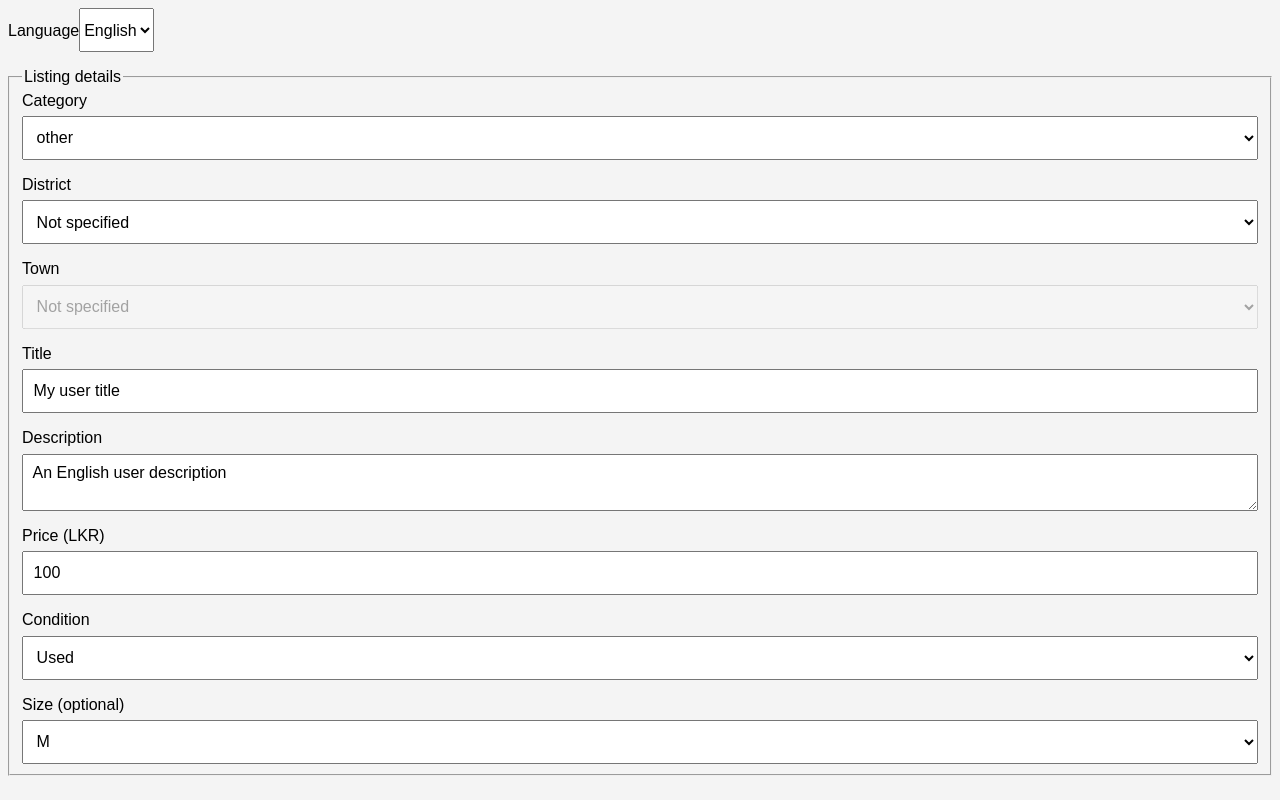
Scenario: switching languages updates labels but preserves state and canonical API enum values
Later steps or results of the test are not shown.
Select "සිංහල" in the dropdown labelled "Language" at [117, 30], box [79,8,154,52]
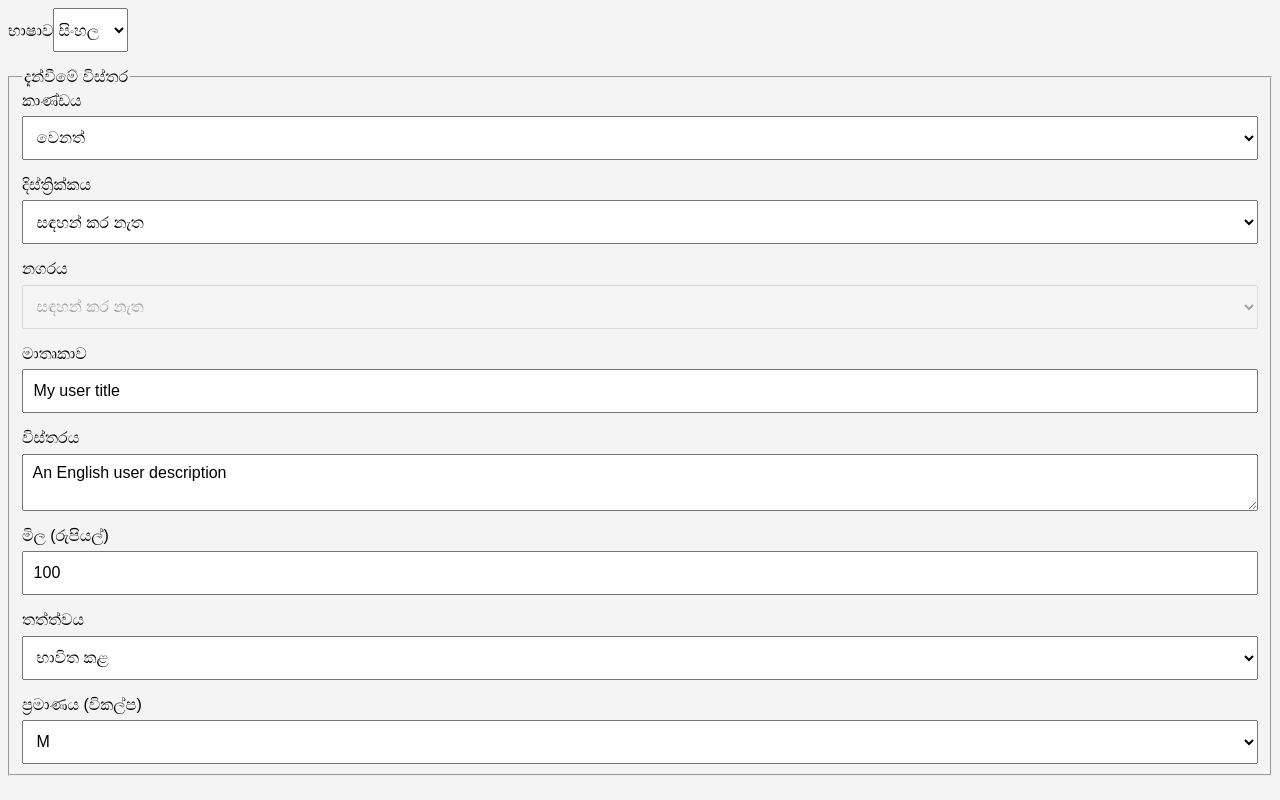
Check: the field labelled "මාතෘකාව" holds "My user title", box [22,369,1258,413]
Check: the dropdown labelled "තත්ත්වය" shows "භාවිත කළ", box [22,636,1258,680]
